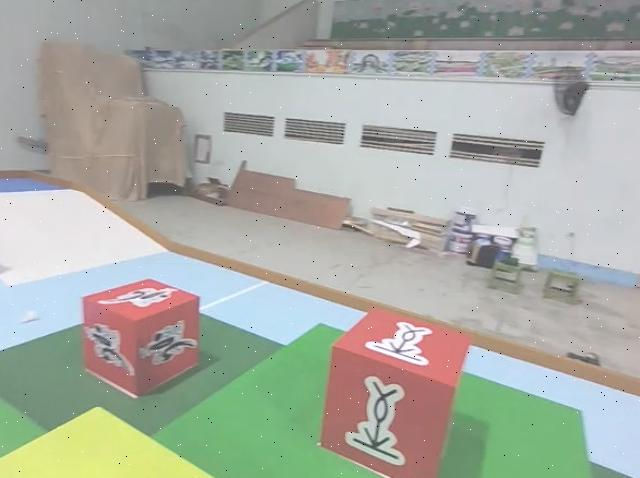R1: (80, 275, 202, 401)
R2 Real: (318, 302, 476, 478)
